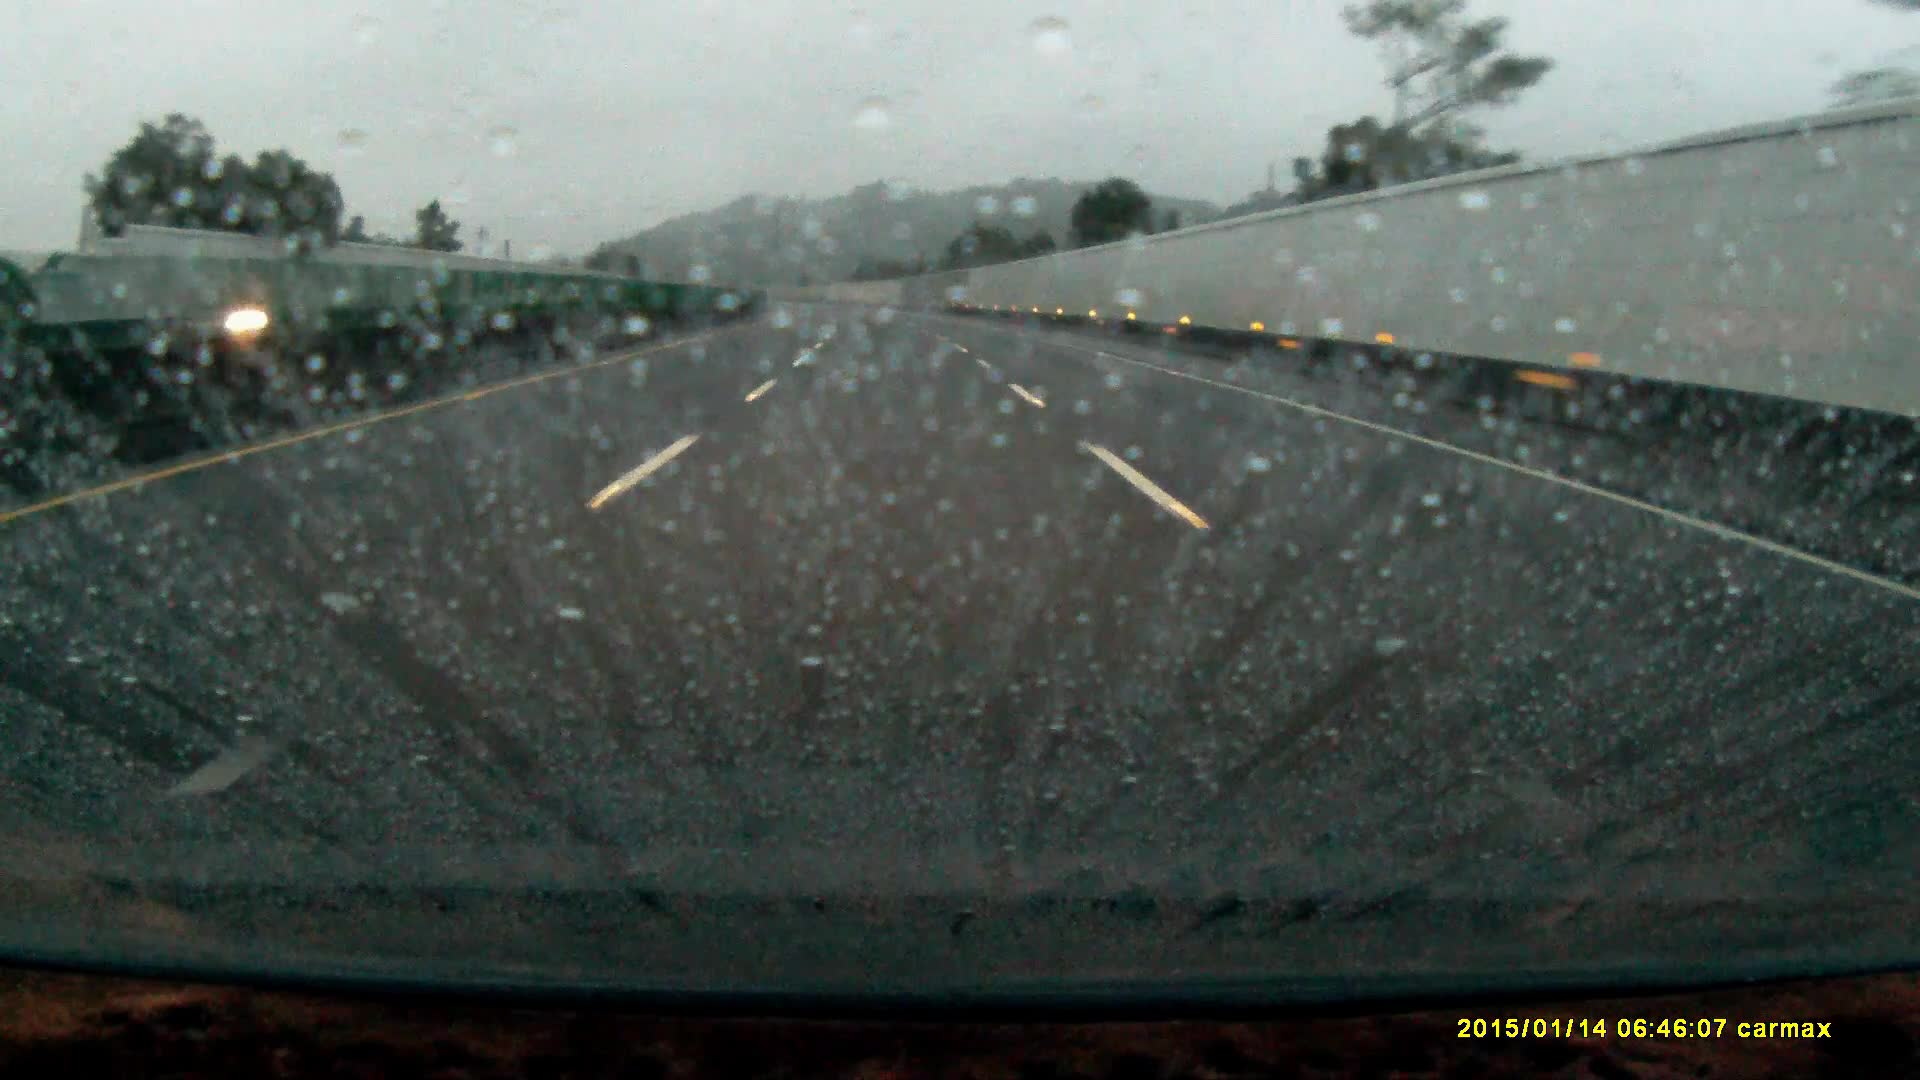vehicle: (177, 291, 318, 343)
